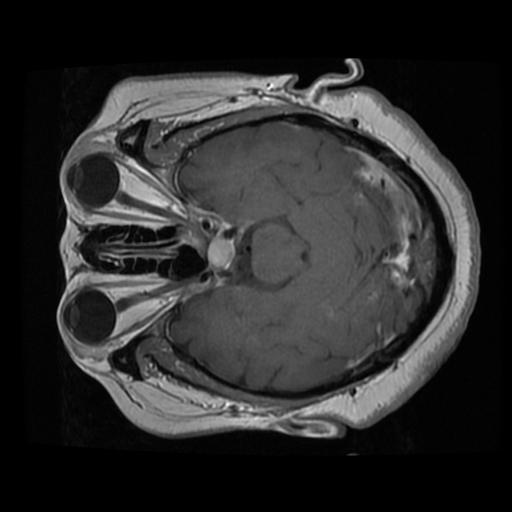pituitary tumour: (209, 236, 233, 268)
